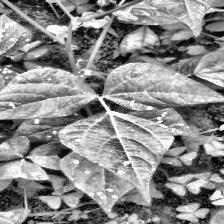Bean Rust: (61, 111, 178, 201), (101, 62, 224, 111), (0, 66, 97, 125), (65, 156, 140, 213), (116, 102, 198, 140), (12, 112, 86, 142), (0, 13, 32, 63), (0, 65, 18, 110)
